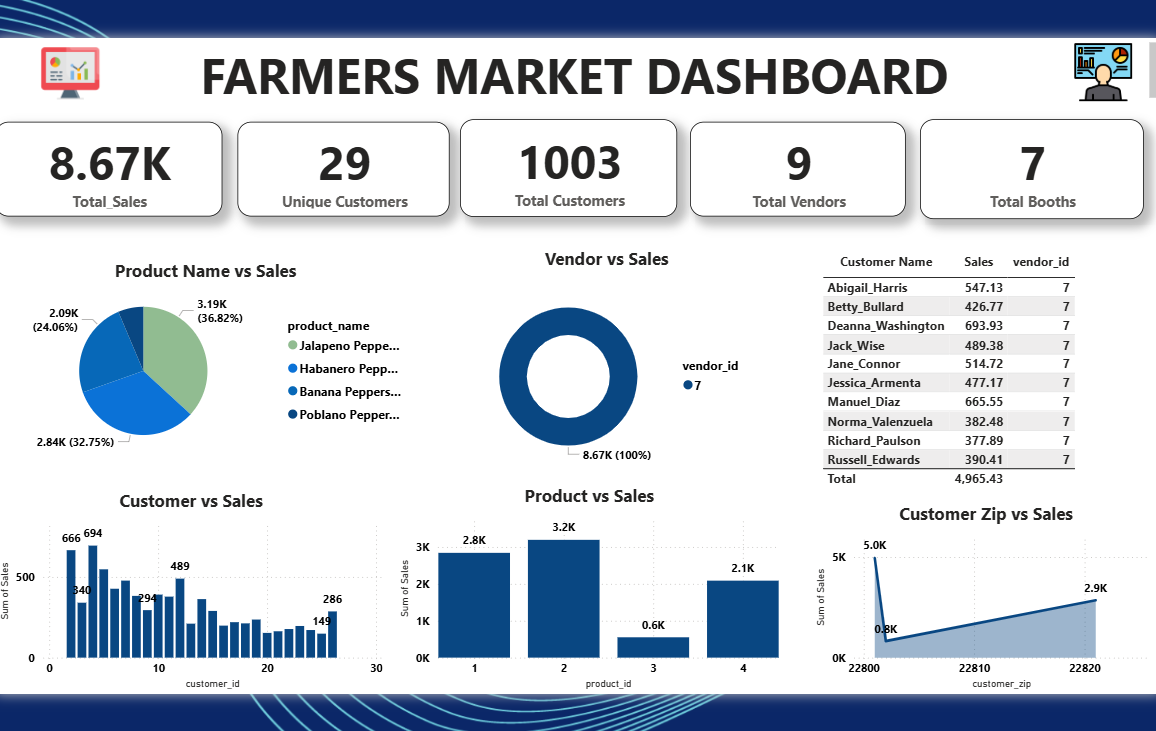

The dashboard page shown, as its layout file describes it:
{"tool":"powerbi","page":{"name":"Sales Wise Analysis","canvas":[1280,720],"ordinal":1},"visuals":[{"type":"columnChart","title":"Customer vs Sales","fields":{"Category":["customer_purchases.customer_id"],"Y":["customer_purchases.Sales"]},"box":[0,494.9,430.5,224.9],"z":0},{"type":"clusteredColumnChart","title":"Product vs Sales","fields":{"Category":["product.product_id"],"Y":["customer_purchases.Sales"]},"box":[438.7,489.5,426.4,230.3],"z":1000},{"type":"pieChart","title":"Product Name vs Sales","fields":{"Category":["product.product_name"],"Y":["customer_purchases.Sales"]},"box":[0,242.7,462,220.7],"z":2000},{"type":"donutChart","title":"Vendor vs Sales","fields":{"Category":["customer_purchases.vendor_id"],"Y":["customer_purchases.Sales"]},"box":[499.1,229,344.1,260.5],"z":3000},{"type":"textbox","box":[0,0,1280.6,75.4],"z":4000},{"type":"image","box":[1153,0,127.5,75.4],"z":5000},{"type":"image","box":[43.9,0,78.1,78.1],"z":6000},{"type":"card","fields":{"Values":["customer_purchases.Total_Sales"]},"box":[0,91.9,249.5,104.2],"z":7000},{"type":"card","fields":{"Values":["customer_purchases.customer_id"]},"box":[266,91.9,233.1,104.2],"z":8000},{"type":"card","fields":{"Values":["customer_purchases.customer_id"]},"box":[510,89.1,238.6,106.9],"z":9000},{"type":"card","fields":{"Values":["vendor.vendor_id"]},"box":[762.3,91.9,237.2,104.2],"z":10000},{"type":"card","fields":{"Values":["vendor_booth_assignments.booth_number"]},"box":[1015.9,89.1,245.4,109.7],"z":11000},{"type":"tableEx","fields":{"Values":["customer.Customer_FUll_Name","customer_purchases.Sales","customer_purchases.vendor_id"]},"box":[903.5,229,377,279.7],"z":12000},{"type":"areaChart","title":"Customer Zip vs Sales","fields":{"Category":["customer.customer_zip"],"Y":["customer_purchases.Sales"]},"box":[896.7,508.7,383.9,211.1],"z":13000}]}

Visuals, with their boxes on the page's 1280x720 design canvas (x1, y1, x2, y2). These are canvas units, not pixel positions in the 1156x731 screenshot, which may show the page scaled, cropped or inside an application window:
"Customer vs Sales" columnChart: BBox(0, 495, 430, 720)
"Product vs Sales" clusteredColumnChart: BBox(439, 490, 865, 720)
"Product Name vs Sales" pieChart: BBox(0, 243, 462, 463)
"Vendor vs Sales" donutChart: BBox(499, 229, 843, 490)
textbox: BBox(0, 0, 1281, 75)
image: BBox(1153, 0, 1280, 75)
image: BBox(44, 0, 122, 78)
card - customer_purchases.Total_Sales: BBox(0, 92, 250, 196)
card - customer_purchases.customer_id: BBox(266, 92, 499, 196)
card - customer_purchases.customer_id: BBox(510, 89, 749, 196)
card - vendor.vendor_id: BBox(762, 92, 1000, 196)
card - vendor_booth_assignments.booth_number: BBox(1016, 89, 1261, 199)
tableEx - customer.Customer_FUll_Name x customer_purchases.Sales: BBox(904, 229, 1280, 509)
"Customer Zip vs Sales" areaChart: BBox(897, 509, 1281, 720)
